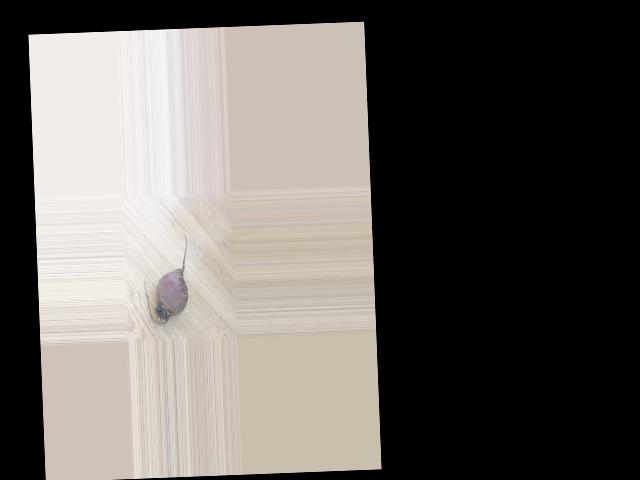beet: (142, 234, 190, 324)
